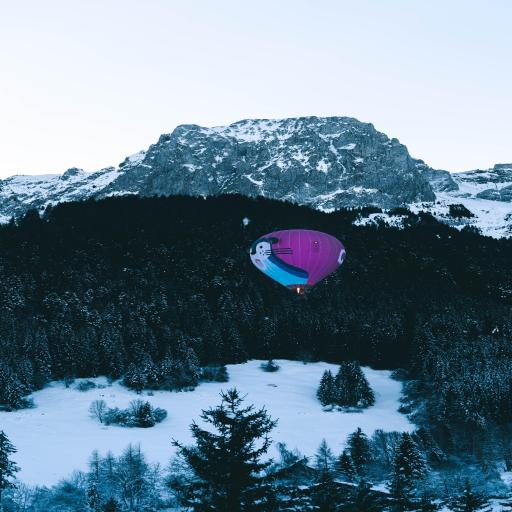hot air ballon: (245, 225, 348, 301)
